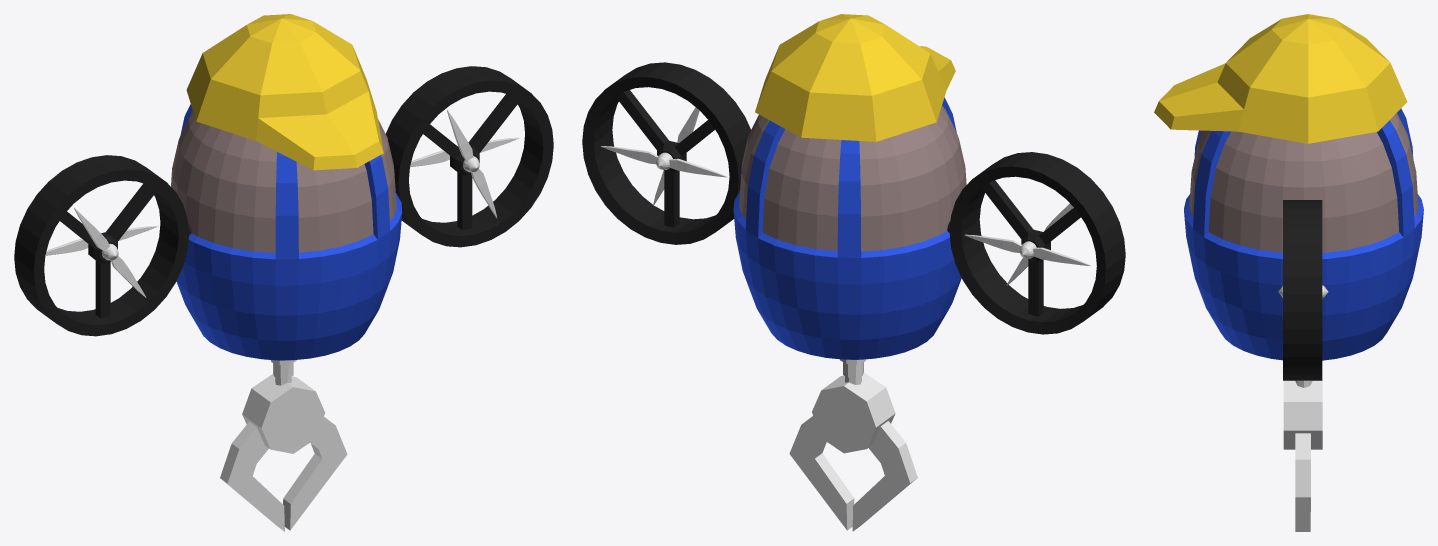
File: Robot.fbx
3 views of the same model, side by side, from view 1: azimuth 30°, elevation 25°; view 2: azimuth 150°, elevation 25°; view 3: azimuth 270°, elevation 25° (orthographic).
Parts seen in each view (by area): view 1: Body, EngineHousings, Grapple, Prop, Prop3, Prop2; view 2: Body, EngineHousings, Grapple, Prop2, Prop4; view 3: Body, EngineHousings, Grapple.
Boxes of the visible parts, x1,y1,x2,y2 form: Body: (171, 14, 402, 360); EngineHousings: (14, 66, 553, 336); Grapple: (220, 374, 347, 531); Prop: (447, 110, 497, 218); Prop3: (74, 207, 146, 297); Prop2: (45, 225, 158, 255); Body: (733, 14, 966, 359); EngineHousings: (582, 62, 1125, 334); Grapple: (789, 372, 917, 531); Prop2: (965, 234, 1090, 266); Prop4: (601, 146, 726, 177); Body: (1154, 14, 1423, 360); EngineHousings: (1283, 200, 1322, 380); Grapple: (1283, 380, 1322, 531).
Size of the model in its own units: 283 by 264 by 126.
